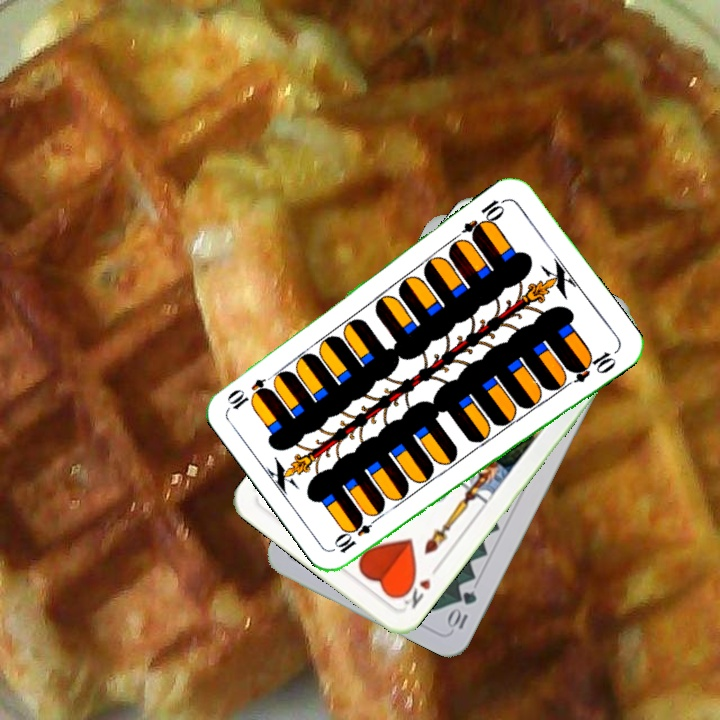E10: (459, 194, 510, 242), (331, 510, 383, 556)
G10: (444, 587, 480, 632)
HK: (396, 561, 443, 612)
